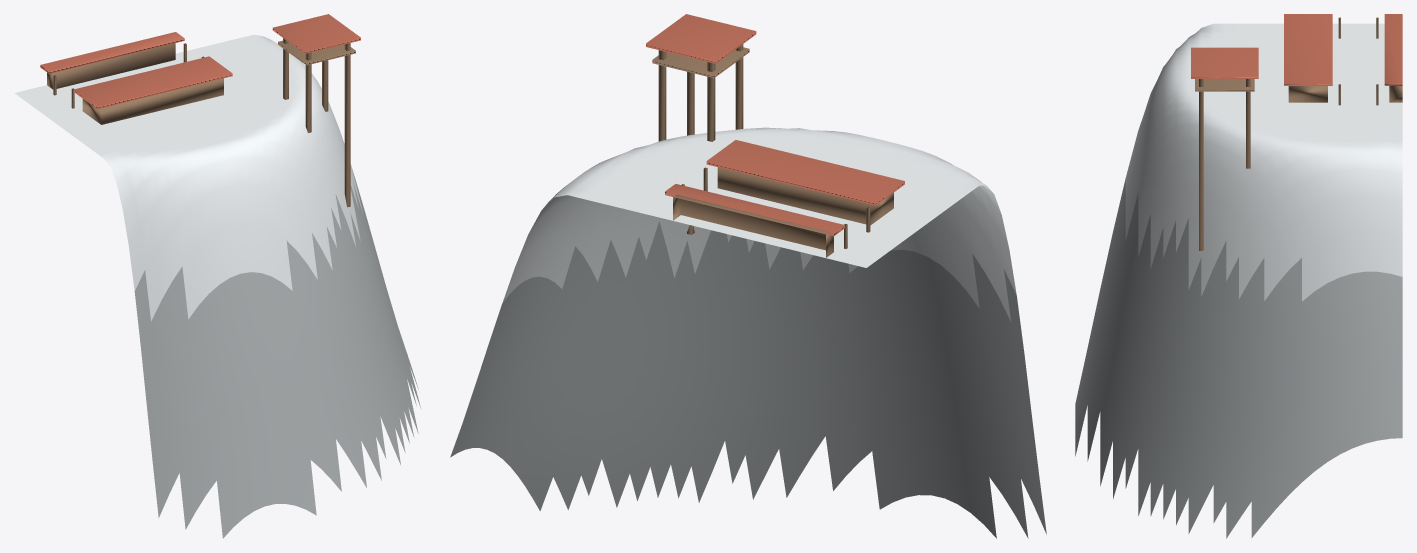
Rendered from alpine-13-12.glb.
3 views of the same model, side by side, from view 1: azimuth 30°, elevation 25°; view 2: azimuth 150°, elevation 25°; view 3: azimuth 270°, elevation 25° (orthographic). The views are drawn at different scales.
Visible parts, largest first — view 1: alpine-13-12; view 2: alpine-13-12; view 3: alpine-13-12.
Boxes of the visible parts, x1=… form: alpine-13-12: x1=14, y1=14, x2=420, y2=538; alpine-13-12: x1=450, y1=14, x2=1046, y2=538; alpine-13-12: x1=1075, y1=14, x2=1402, y2=538.
Bounding box in the file's own units: 256 × 304 × 208.
Materials: 4 (4 with a texture image).
